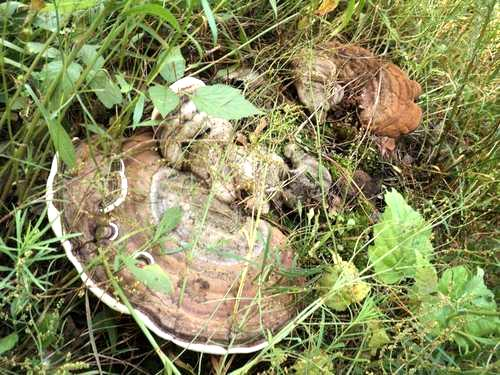Ganoderma - Fruit Body: (48, 125, 304, 356), (306, 34, 428, 134)
